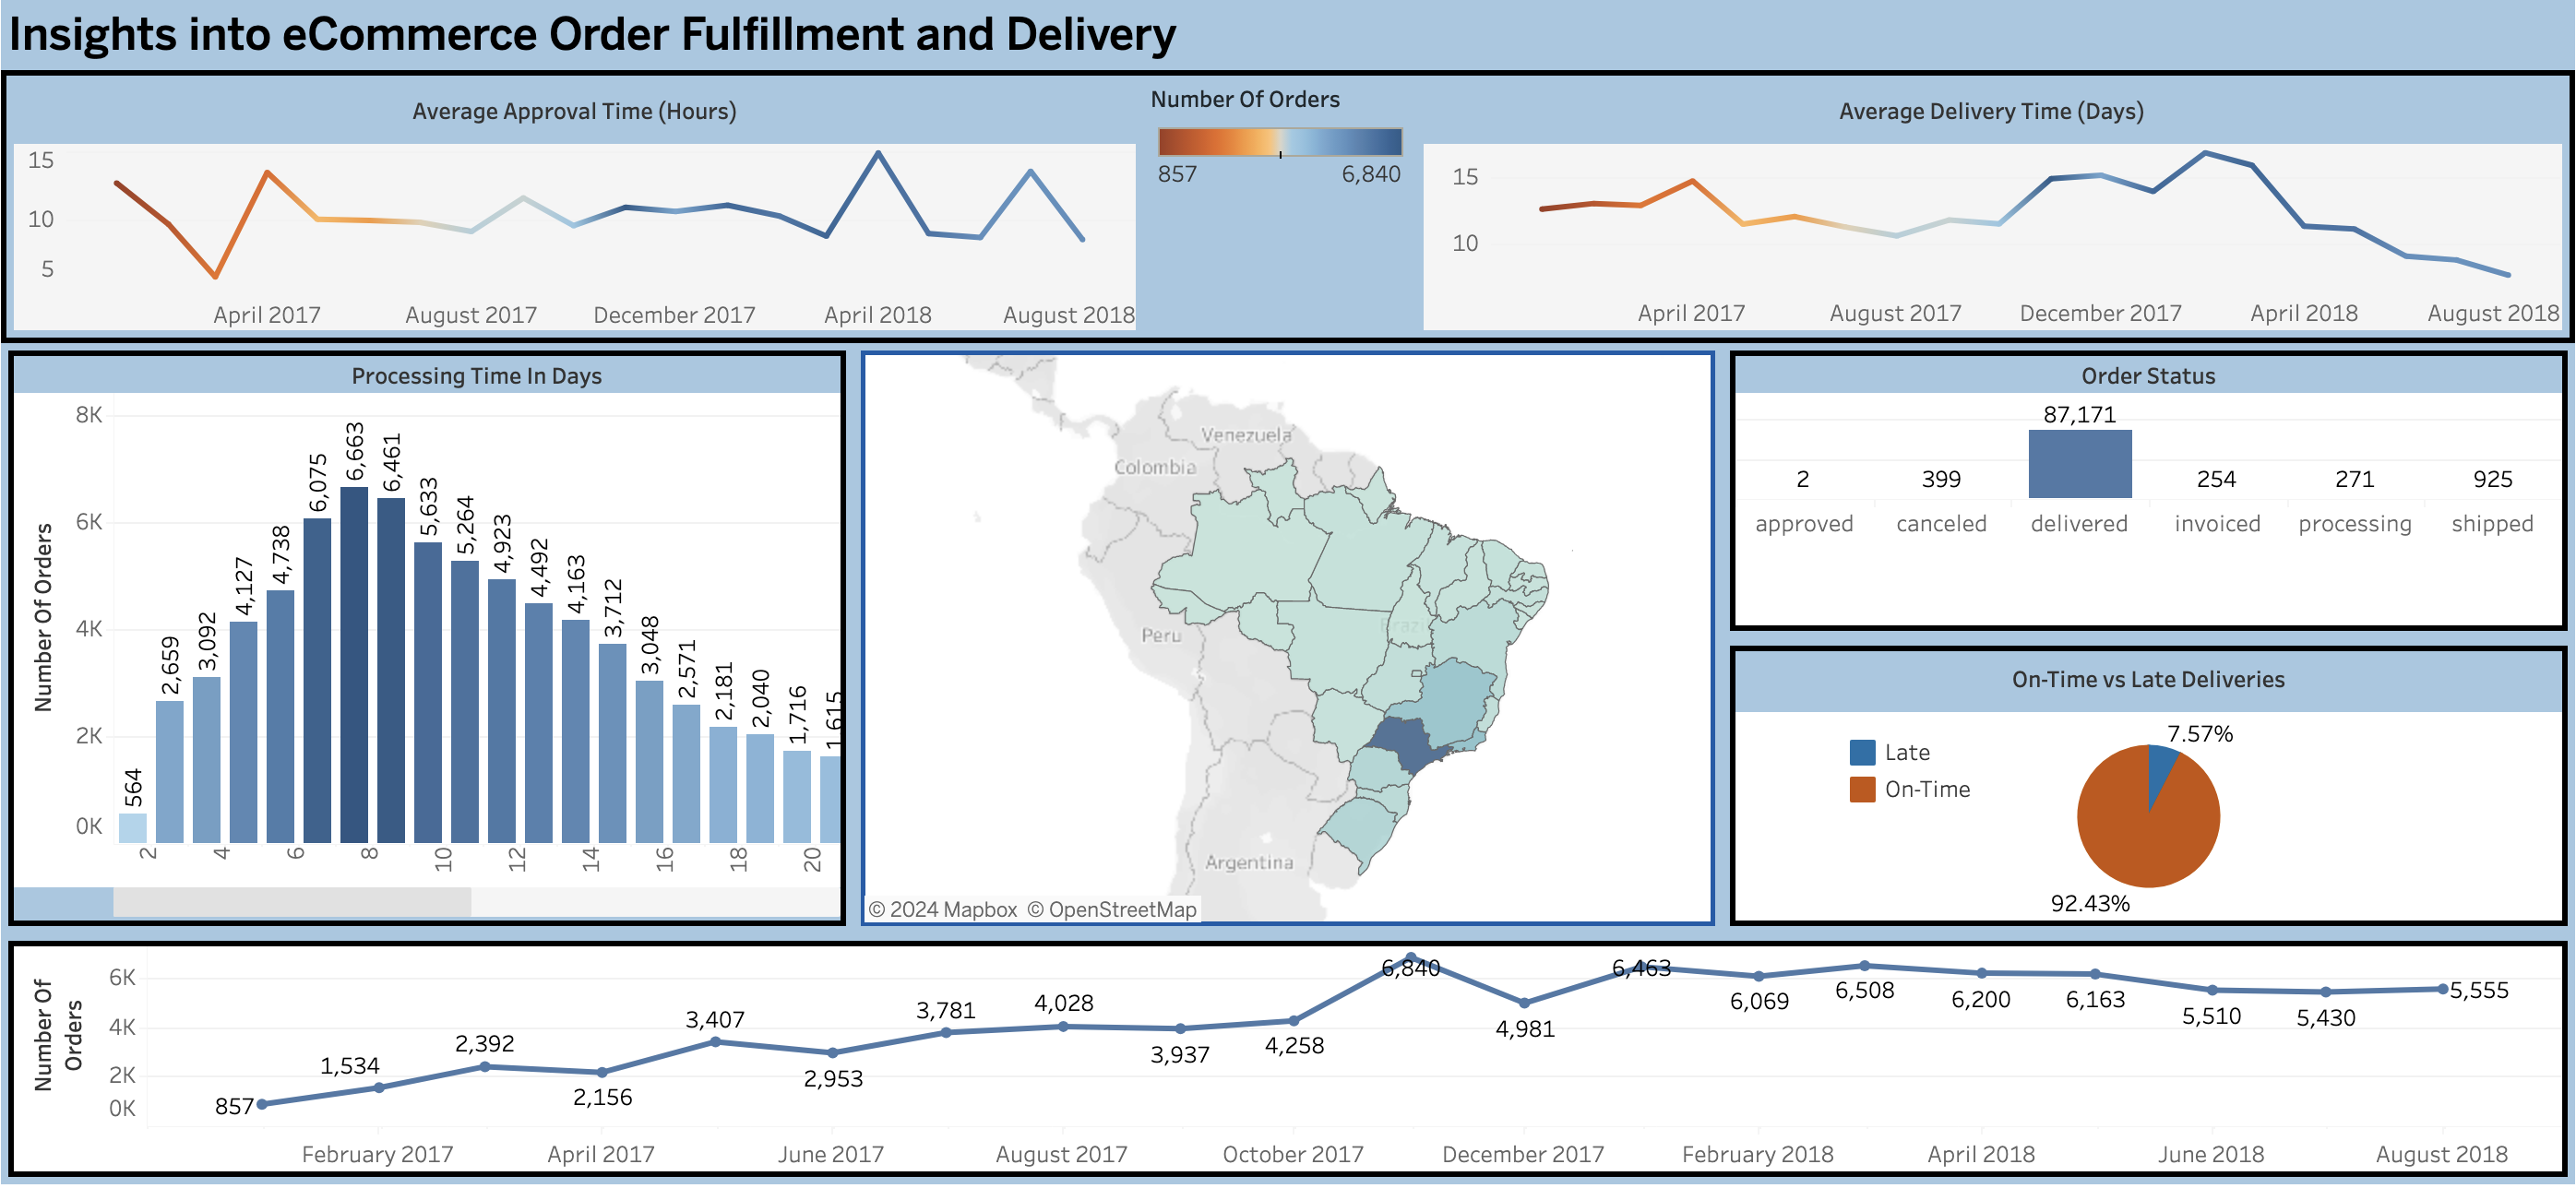

What the dashboard file says about the page in this screenshot:
{"tool":"tableau","page":{"name":"Dashboard 1","canvas":[1000,1000],"units":"permille","ordinal":0},"visuals":[{"type":"title","box":[6.5,11.9,987,55.1]},{"type":"worksheet","title":"Average Time From Purchase to Approval","mark":"Automatic","rows":["Calculation_5476447522472079362"],"cols":["order_purchase_timestamp"],"box":[9,71.5,427.6,216.4]},{"type":"legend","title":"Average Time From Purchase to Delivery","param":"[federated.1xjlkfn1onznxv16r5ejc0q94ss2].[usr:Calculation_5476447522477670403:qk","box":[436.5,71.5,120.4,216.4]},{"type":"worksheet","title":"Average Time From Purchase to Delivery","mark":"Automatic","rows":["Calculation_5476447522472079362 1"],"cols":["order_purchase_timestamp"],"box":[557,71.5,434.1,216.4]},{"type":"worksheet","title":"Avg Time From Order Purchase to Delivery","mark":"Automatic","rows":["Calculation_5476447522477670403"],"cols":["Order Processing Time In Days (bin)"],"box":[6.5,292.4,326.6,488.9]},{"type":"worksheet","title":"Orders Placed By State","mark":"Automatic","box":[333.1,292.4,333.5,488.9]},{"type":"worksheet","title":"Distribution of Order Status","mark":"Automatic","rows":["Calculation_5476447522477670403"],"cols":["order_status"],"box":[666.6,292.4,326.9,244.3]},{"type":"worksheet","title":"On-TIme vs Late","mark":"Pie","box":[666.6,536.8,326.9,244.5]},{"type":"legend","title":"On-TIme vs Late","param":"[federated.1xjlkfn1onznxv16r5ejc0q94ss2].[none:Calculation_5476447522489344007:n","box":[713.3,616.7,116.7,66.7]},{"type":"worksheet","title":"Monthly Order Volume","mark":"Automatic","rows":["Calculation_5476447522477670403"],"cols":["order_purchase_timestamp"],"box":[6.5,781.3,987,206.8]}]}

Visuals, with their boxes on the dashboard's canvas, which has no fixed pixel size, in thousandths of its width and height (x1, y1, x2, y2). These are canvas units, not pixel positions in the 2576x1188 screenshot, which may show the page scaled, cropped or inside an application window:
title: <region>6, 12, 994, 67</region>
"Average Time From Purchase to Approval" worksheet: <region>9, 72, 437, 288</region>
"Average Time From Purchase to Delivery" legend: <region>436, 72, 557, 288</region>
"Average Time From Purchase to Delivery" worksheet: <region>557, 72, 991, 288</region>
"Avg Time From Order Purchase to Delivery" worksheet: <region>6, 292, 333, 781</region>
"Orders Placed By State" worksheet: <region>333, 292, 667, 781</region>
"Distribution of Order Status" worksheet: <region>667, 292, 994, 537</region>
"On-TIme vs Late" worksheet (Pie marks): <region>667, 537, 994, 781</region>
"On-TIme vs Late" legend: <region>713, 617, 830, 683</region>
"Monthly Order Volume" worksheet: <region>6, 781, 994, 988</region>
